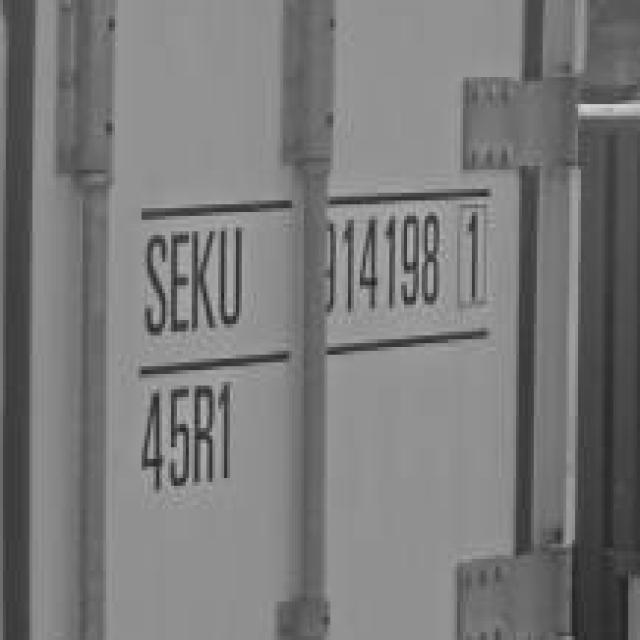dv: (457, 197, 498, 315)
owner: (138, 223, 268, 340)
serial: (315, 212, 449, 321)
size: (122, 382, 242, 501)
